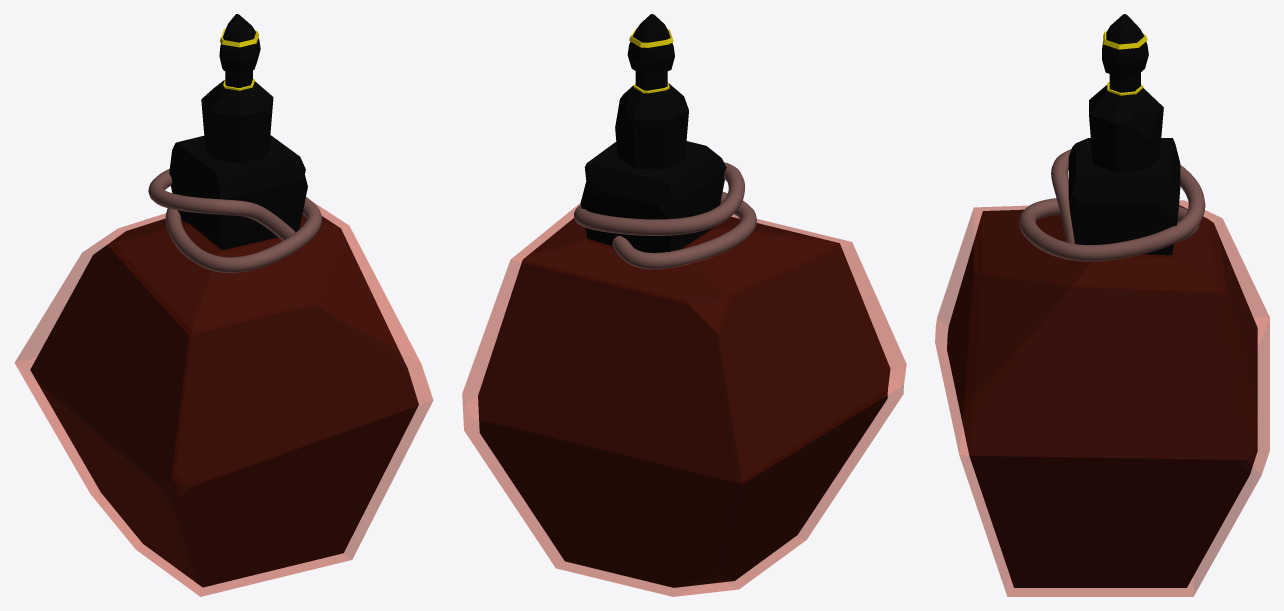
Rendered from burnpotion.fbx.
3 views of the same model, side by side, from view 1: azimuth 30°, elevation 25°; view 2: azimuth 150°, elevation 25°; view 3: azimuth 270°, elevation 25° (orthographic). The views are drawn at different scales.
Visible parts, largest first — view 1: Cylinder.001; view 2: Cylinder.001; view 3: Cylinder.001.
Part boxes in pixels (x1,y1,x2,y2): Cylinder.001: (14,14,433,596); Cylinder.001: (462,14,906,596); Cylinder.001: (935,14,1269,596).
Size of the model in its own units: 369 by 654 by 360.
